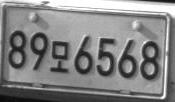5: (96, 37, 115, 76)
6: (116, 39, 137, 78), (72, 35, 92, 74)
8: (139, 40, 160, 80), (7, 29, 26, 69)
9: (29, 31, 48, 70)
모: (48, 40, 68, 73)
